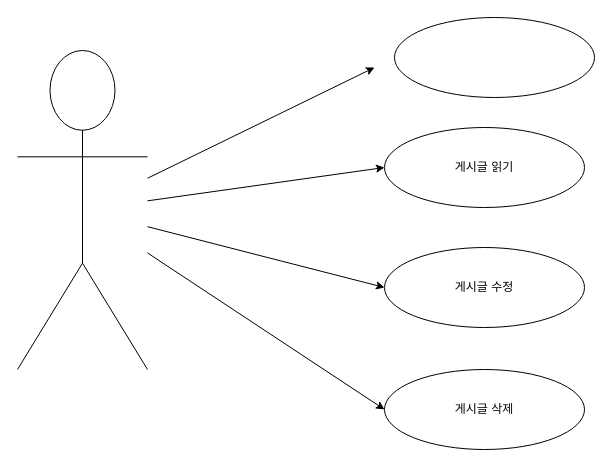
This 612x467 diagram has some shape labels left out. Here are the shapes that lost their labels. From the top down, the box of each, then its label:
(394, 16, 594, 98): 게시글 생성
(16, 50, 148, 370): Actor
